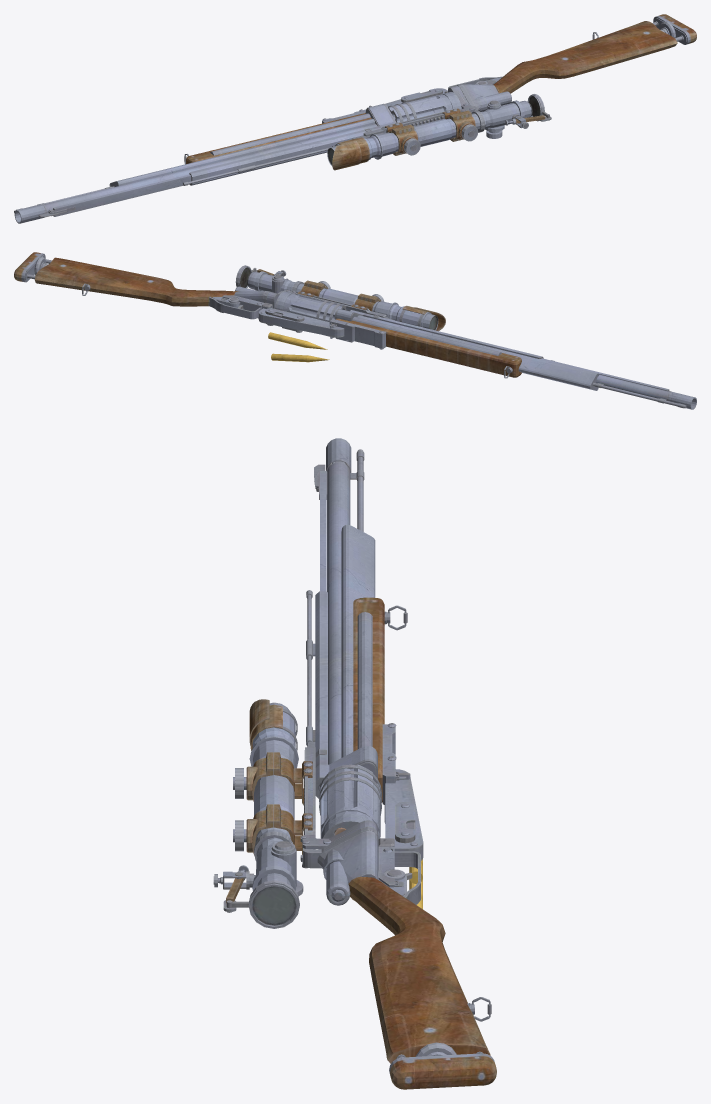
The picture shows the model from 3 angles, top to bottom: view 1: azimuth 30°, elevation 25°; view 2: azimuth 150°, elevation 25°; view 3: azimuth 270°, elevation 25°; orthographic projection. The views are drawn at different scales.
Parts seen in each view (by area): view 1: drzac_low_MaterijalTest_0, scopebody_low_MaterijalTest_0, upper1_low_MaterijalTest_0, barrelShot_low_MaterijalTest_0, triDown_low_MaterijalTest_0, topSquare_low_MaterijalTest_0, klip_low_MaterijalTest_0, woodTube_low_MaterijalTest_0, back1_low_MaterijalTest_0, wood_low_MaterijalTest_0, scopeHolder_low_MaterijalTest_0, scopeHolder_low.001_MaterijalTest_0 (+6 smaller); view 2: drzac_low_MaterijalTest_0, wood_low_MaterijalTest_0, triDown_low_MaterijalTest_0, scopebody_low_MaterijalTest_0, klip_low_MaterijalTest_0, bottomDetail1_low_MaterijalTest_0, bottom_low_MaterijalTest_0, barrelShot_low_MaterijalTest_0, woodTube_low_MaterijalTest_0, upper1_low_MaterijalTest_0, scopeSlider_low_MaterijalTest_0, drzac3_low_MaterijalTest_0 (+12 smaller); view 3: drzac_low_MaterijalTest_0, barrelShot_low_MaterijalTest_0, triDown_low_MaterijalTest_0, scopebody_low_MaterijalTest_0, drzac3_low_MaterijalTest_0, wood_low_MaterijalTest_0, klip_low_MaterijalTest_0, back1_low_MaterijalTest_0, upper1_low_MaterijalTest_0, scope7_low_MaterijalTest_0, woodTube_low_MaterijalTest_0, scopeHolder_low.001_MaterijalTest_0 (+4 smaller).
Boxes of the visible parts, x1,y1,x2,y2 form: drzac_low_MaterijalTest_0: (448,21,677,93); scopebody_low_MaterijalTest_0: (327,100,532,165); upper1_low_MaterijalTest_0: (189,126,381,185); barrelShot_low_MaterijalTest_0: (37,124,377,215); triDown_low_MaterijalTest_0: (109,118,375,186); topSquare_low_MaterijalTest_0: (49,174,191,216); klip_low_MaterijalTest_0: (388,92,461,122); woodTube_low_MaterijalTest_0: (210,113,370,155); back1_low_MaterijalTest_0: (462,84,511,111); wood_low_MaterijalTest_0: (186,113,371,163); scopeHolder_low_MaterijalTest_0: (385,122,420,155); scopeHolder_low.001_MaterijalTest_0: (442,108,478,141); drzac_low_MaterijalTest_0: (34,257,261,319); wood_low_MaterijalTest_0: (336,318,521,377); triDown_low_MaterijalTest_0: (357,315,598,390); scopebody_low_MaterijalTest_0: (247,271,438,330); klip_low_MaterijalTest_0: (275,291,345,321); bottomDetail1_low_MaterijalTest_0: (258,308,344,337); bottom_low_MaterijalTest_0: (329,319,386,348); barrelShot_low_MaterijalTest_0: (594,374,670,403); woodTube_low_MaterijalTest_0: (352,317,501,355); upper1_low_MaterijalTest_0: (363,313,543,358); scopeSlider_low_MaterijalTest_0: (266,290,386,317); drzac3_low_MaterijalTest_0: (14,252,45,282); drzac_low_MaterijalTest_0: (348,851,490,1063); barrelShot_low_MaterijalTest_0: (316,461,364,764); triDown_low_MaterijalTest_0: (341,525,375,757); scopebody_low_MaterijalTest_0: (249,702,298,890); drzac3_low_MaterijalTest_0: (389,1053,496,1089); wood_low_MaterijalTest_0: (353,597,384,802); klip_low_MaterijalTest_0: (320,764,380,838); back1_low_MaterijalTest_0: (317,830,378,905); upper1_low_MaterijalTest_0: (313,591,327,767); scope7_low_MaterijalTest_0: (226,880,299,928); woodTube_low_MaterijalTest_0: (357,612,372,749); scopeHolder_low.001_MaterijalTest_0: (233,804,312,855).
Bounding box in the file's own units: 913 × 74.97 × 173.
